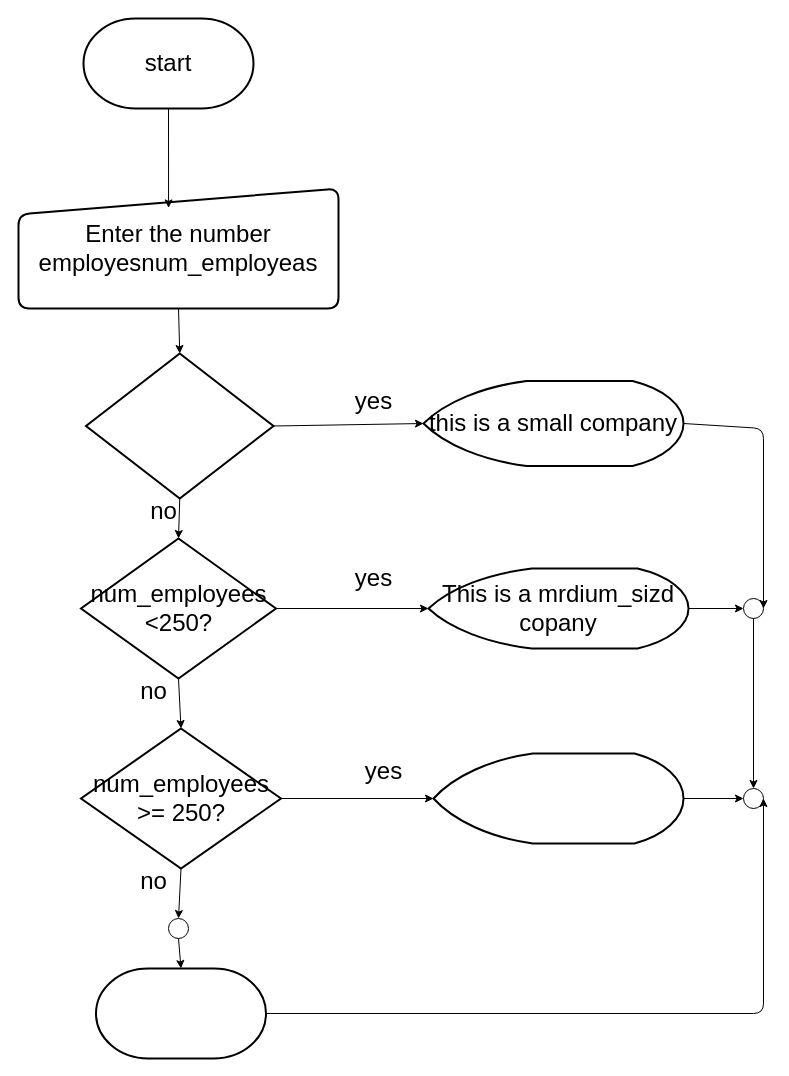
Some shapes in this 789 by 1076 pixel diagram are drawn without their labels. Each missing label, with the centre of its shape:
num_employees <50?: (179,425)
stop: (180,1013)
This is a large company: (558,798)
